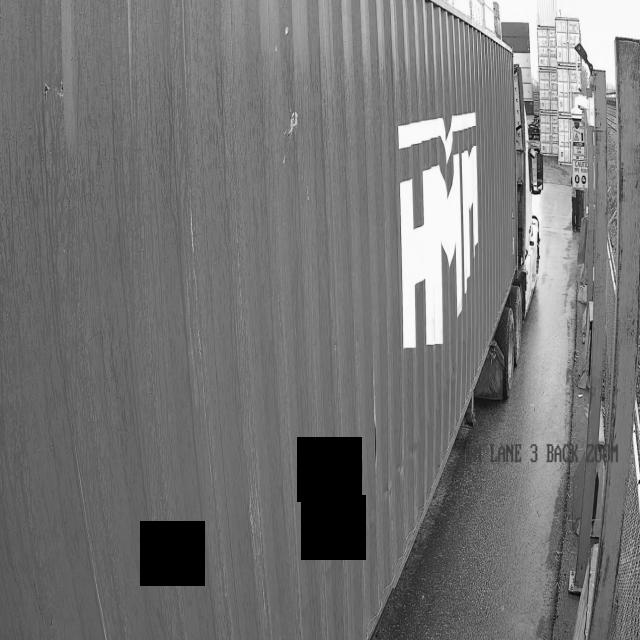container_company_logo: (363, 86, 528, 366)
truck_with_container: (0, 0, 531, 640)
